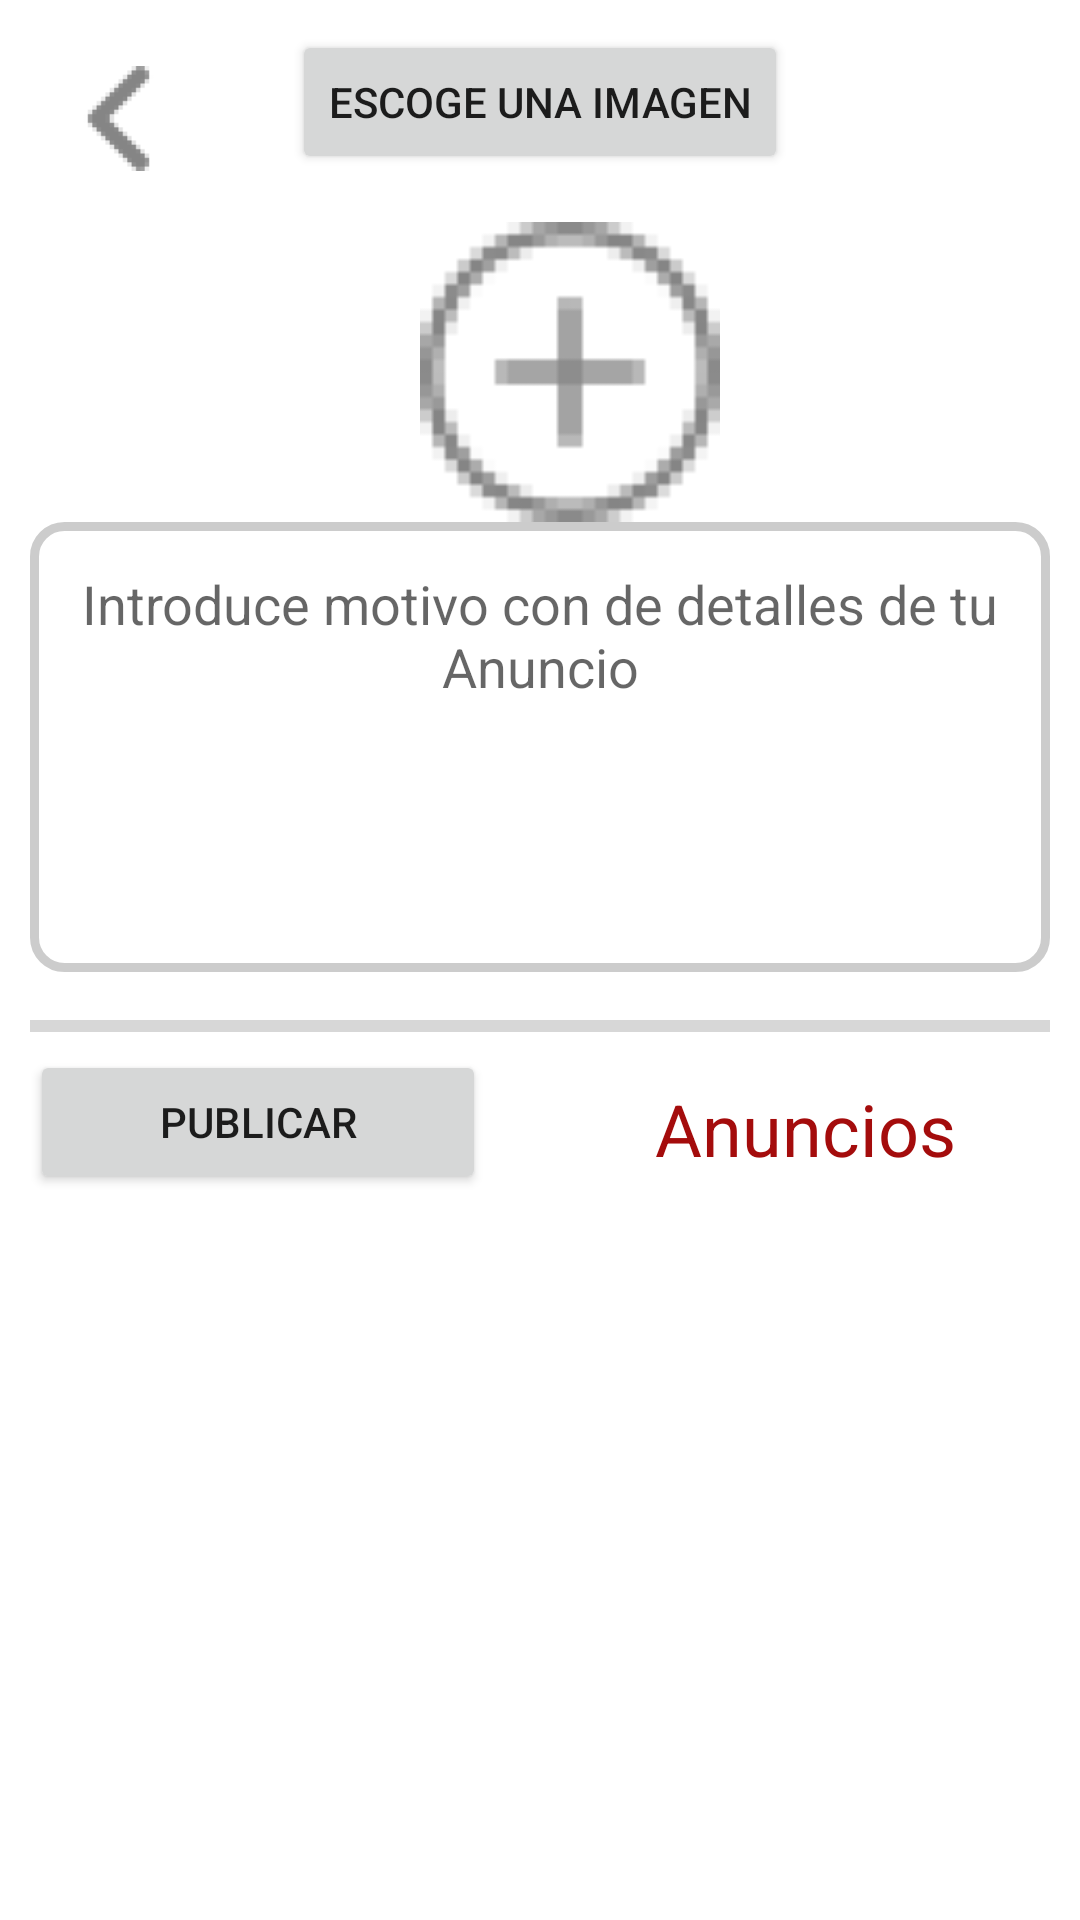

Where icons sit on this 1080px×1920px app screen, as (x1, y1, x2, y2):
mas: (420, 222, 720, 522)
volver: (87, 66, 150, 171)
